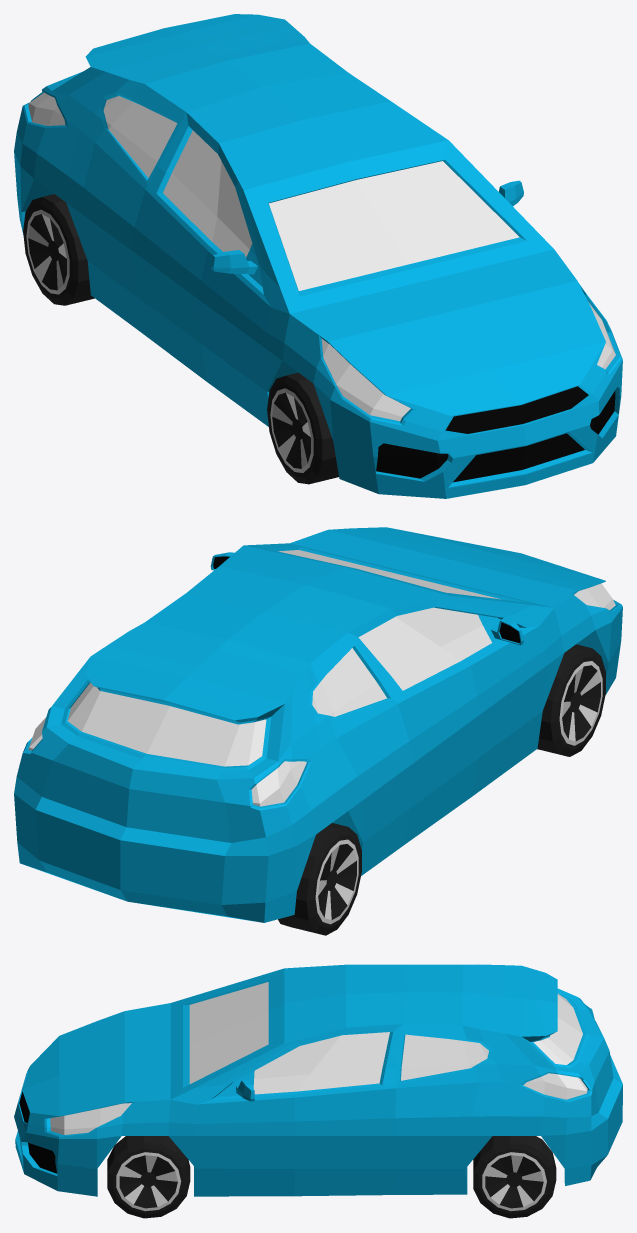
The model's file is 2blue.fbx.
3 renders of one model, top to bottom at view 1: azimuth 30°, elevation 25°; view 2: azimuth 150°, elevation 25°; view 3: azimuth 270°, elevation 25°, orthographic. The views are drawn at different scales.
Visible parts, largest first — view 1: Cube; view 2: Cube; view 3: Cube.
Boxes of the visible parts, x1,y1,x2,y2 form: Cube: [14, 14, 622, 498]; Cube: [14, 527, 622, 935]; Cube: [14, 964, 622, 1218].
Bounding box in the file's own units: 134 × 95.91 × 303.
